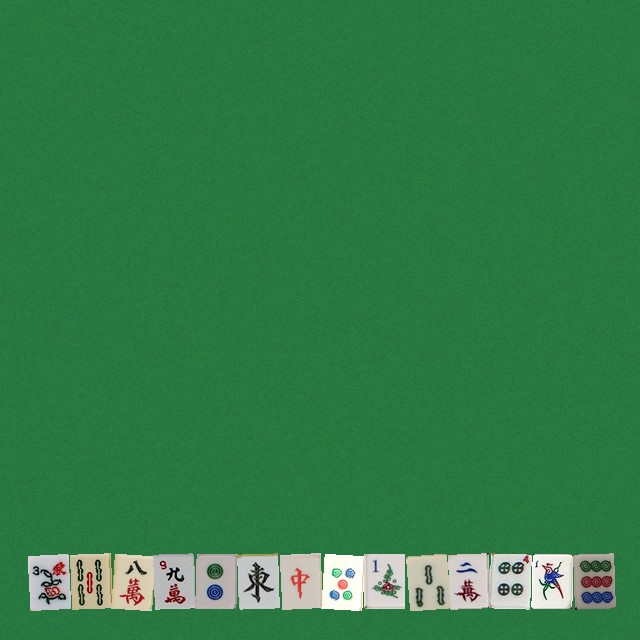tile: (27, 553, 68, 608), (69, 553, 110, 608), (111, 553, 152, 608), (153, 553, 194, 608), (195, 553, 236, 608), (237, 553, 278, 608), (279, 553, 320, 608), (321, 553, 362, 608), (363, 553, 404, 608), (405, 553, 446, 608), (447, 553, 488, 608), (489, 553, 530, 608), (531, 553, 572, 608), (573, 553, 614, 608)
